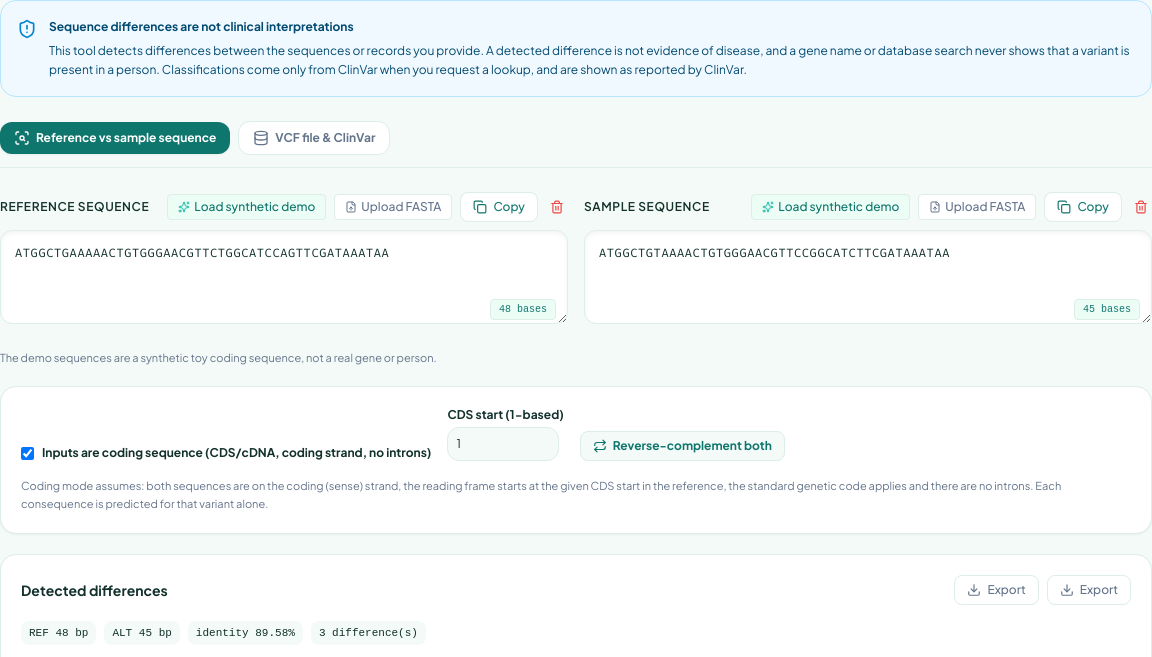
Test: ClinVar consent lifecycle › shows exactly what will be sent (coordinates only) and that the IP address is visible to NCBI
Click the tab "VCF file & ClinVar".
click(314, 138)  # box [238, 120, 390, 154]
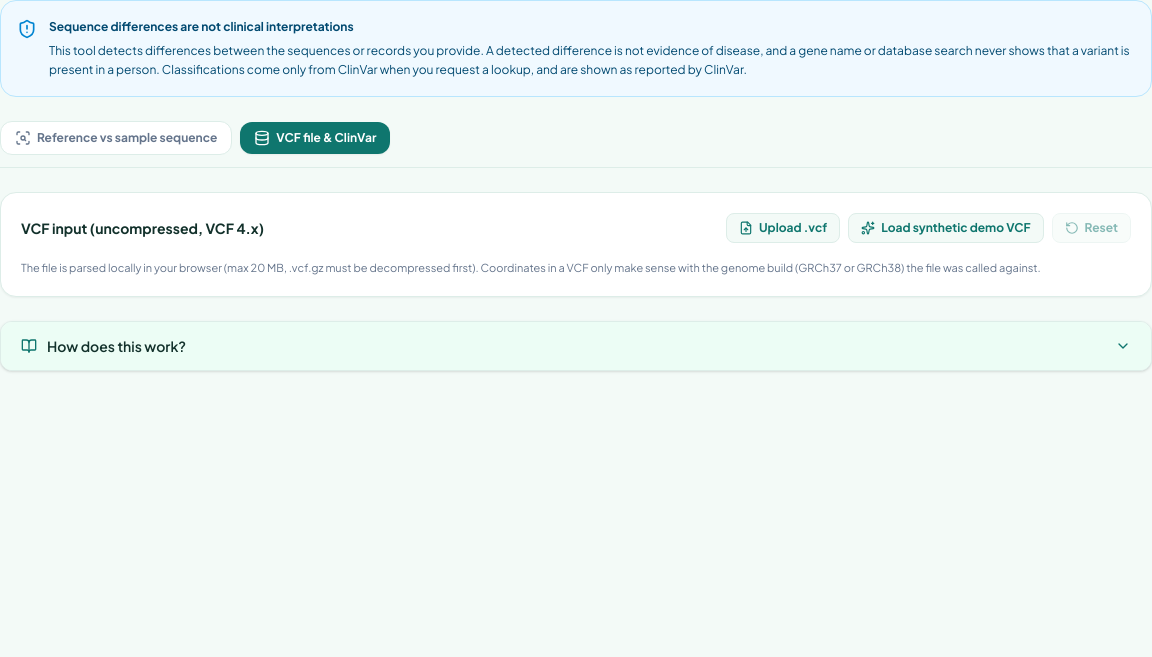
Expected: the button "Load synthetic demo VCF" is shown
Click the button "Load synthetic demo VCF".
click(946, 228)  # box [848, 212, 1044, 242]
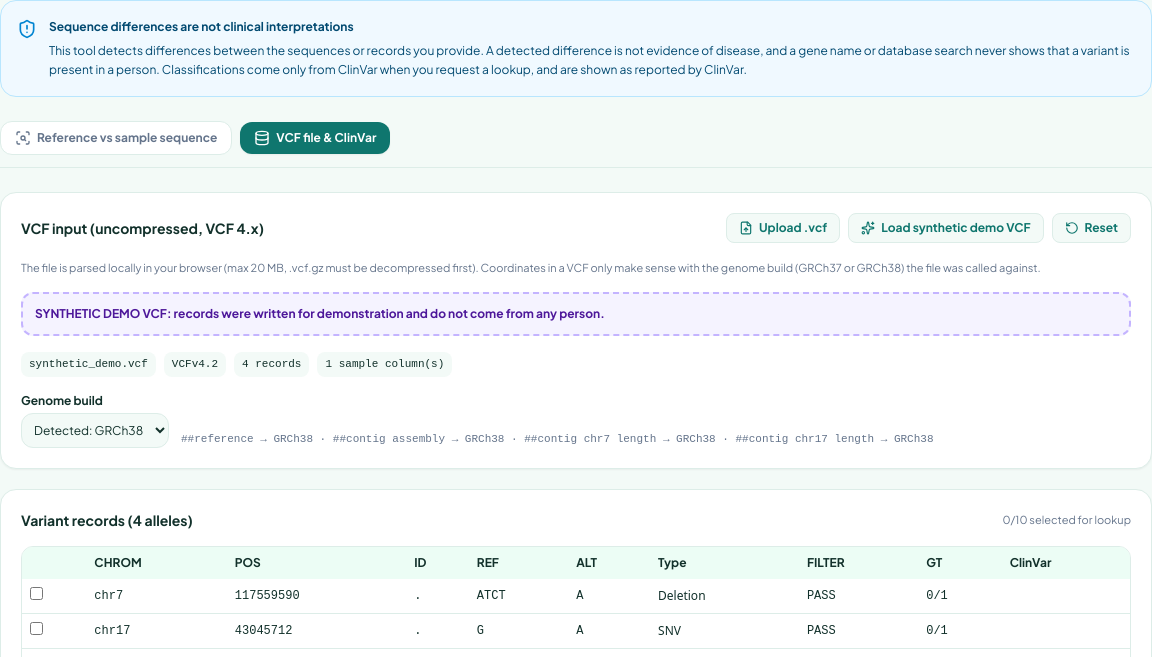
Click the checkbox named "Select ".
click(36, 593)  # box [30, 587, 43, 600]
(page scrolled)
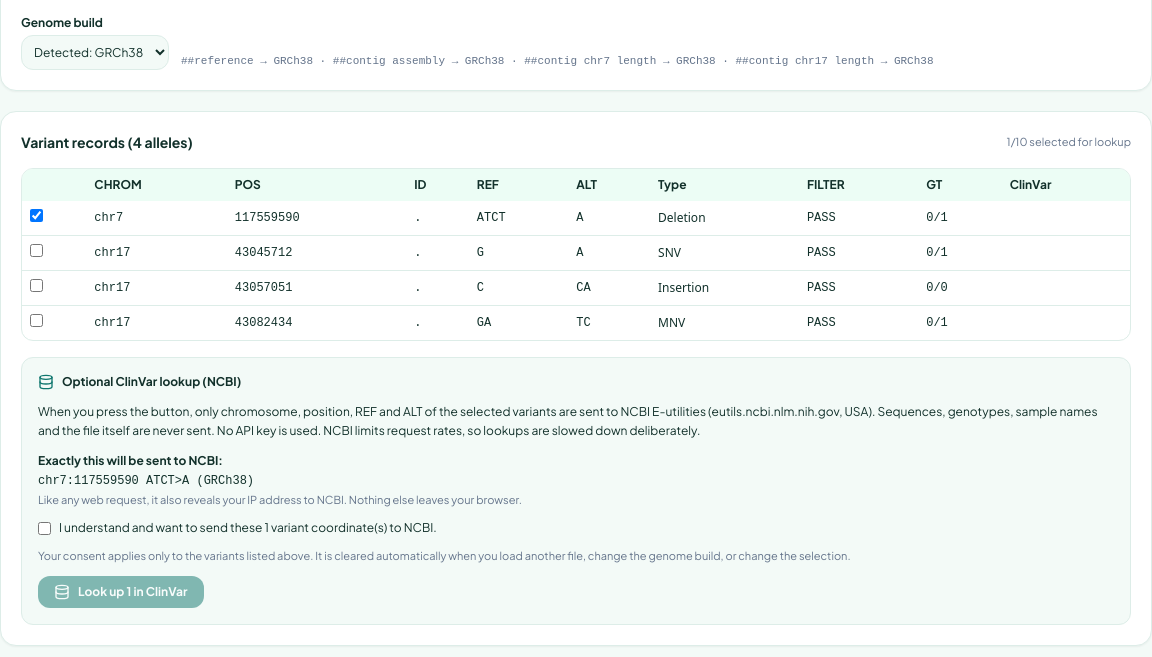
Expected: the text "consent applies only to the variants listed above" is shown, [38, 548, 851, 562]
Expected: the list with test id "clinvar-send-list" reads "chr7:117559590 ATCT>A (GRCh38)", [38, 474, 254, 488]
Expected: the text "reveals your IP address to NCBI" is shown, [38, 493, 522, 506]
